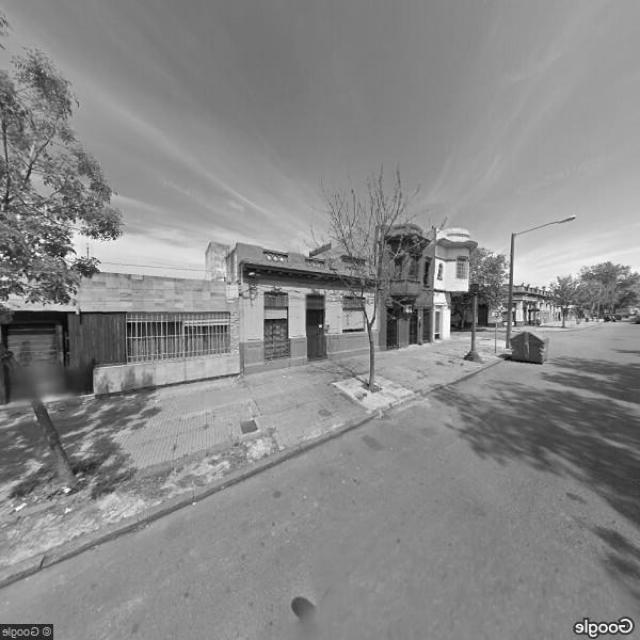garbage container: (504, 326, 558, 372)
